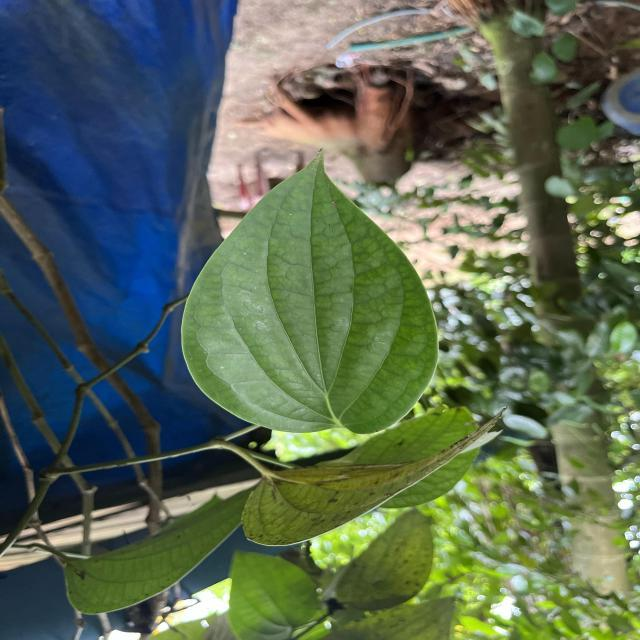Piper nigrum: (174, 144, 443, 436)
